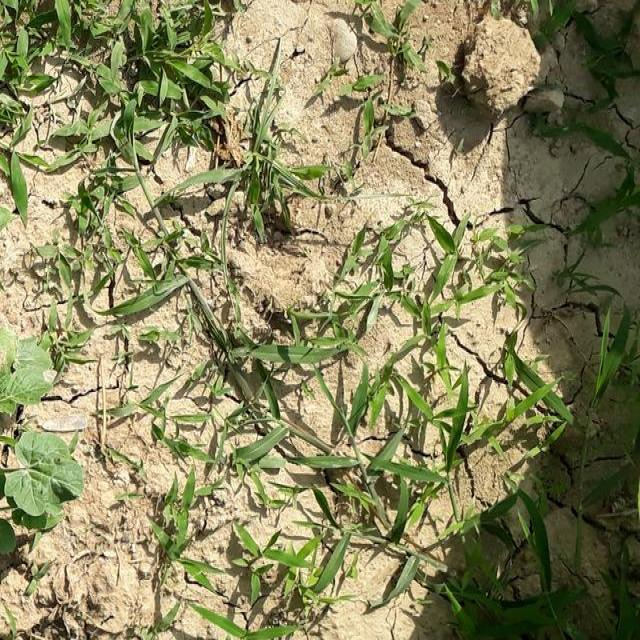weed: (209, 230, 565, 640), (0, 0, 246, 164), (48, 179, 136, 312)
